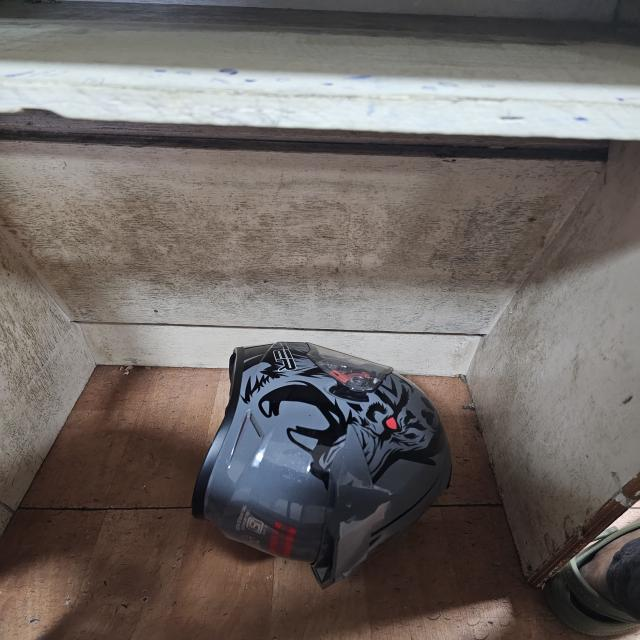helmet: (195, 344, 460, 582)
